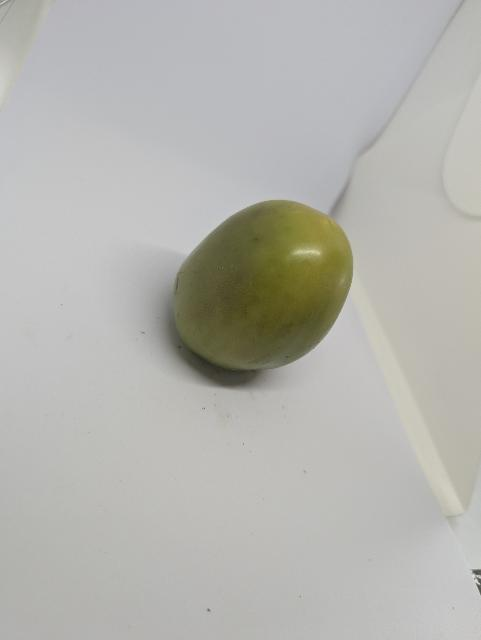green: (161, 191, 365, 395)
